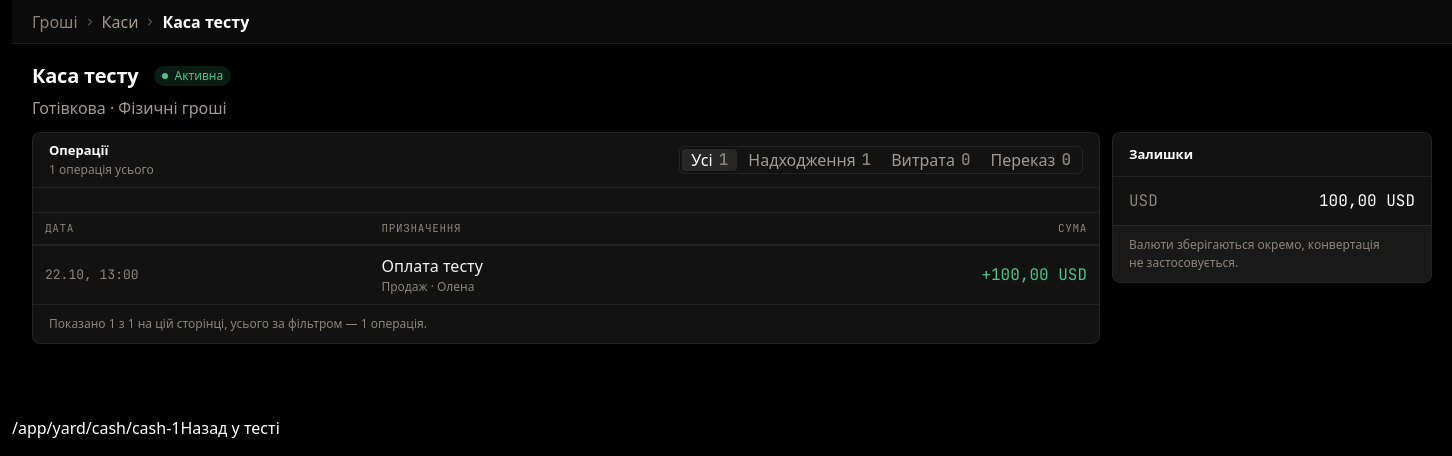
it: opens the referenced order for a sale_in entry in a till ledger
Click the text "Оплата тесту" at (566, 275), box x1=33 y1=246 x2=1099 y2=304
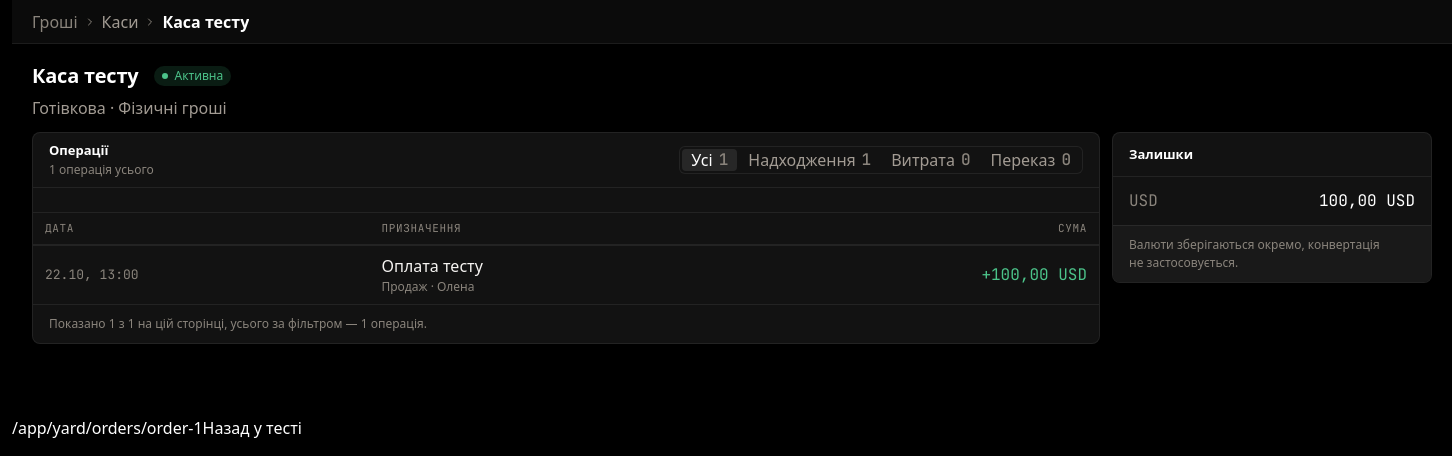
Now the text named "Маршрут" reads "/app/yard/orders/order-1", box x1=12 y1=417 x2=203 y2=439
